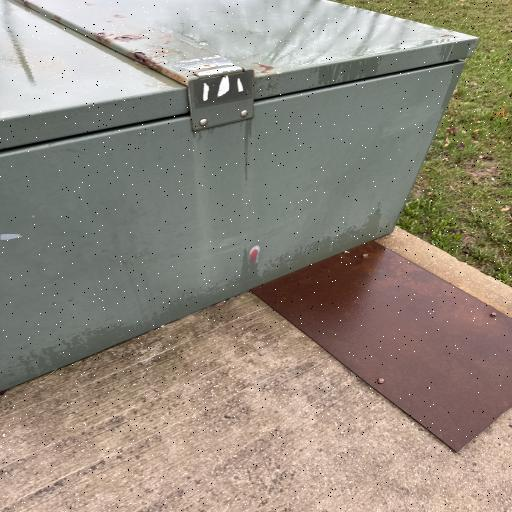Electrical Box: (3, 1, 479, 388)
